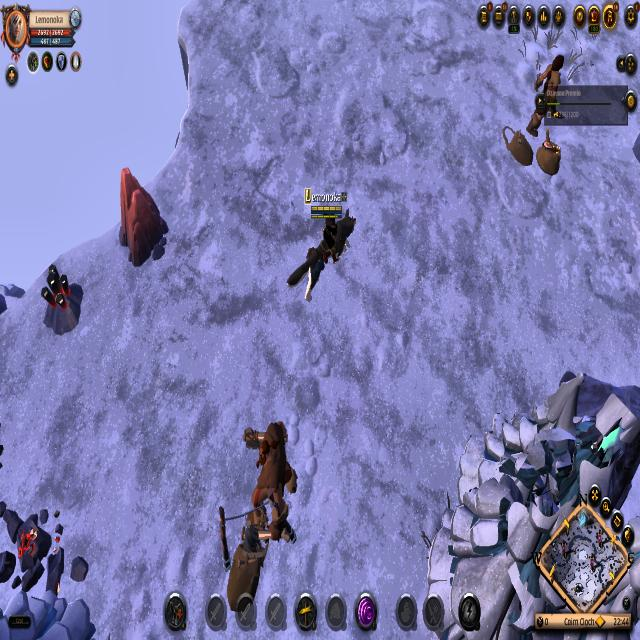ore tier 5: (39, 267, 85, 337)
rock tier 5: (118, 165, 168, 269)
